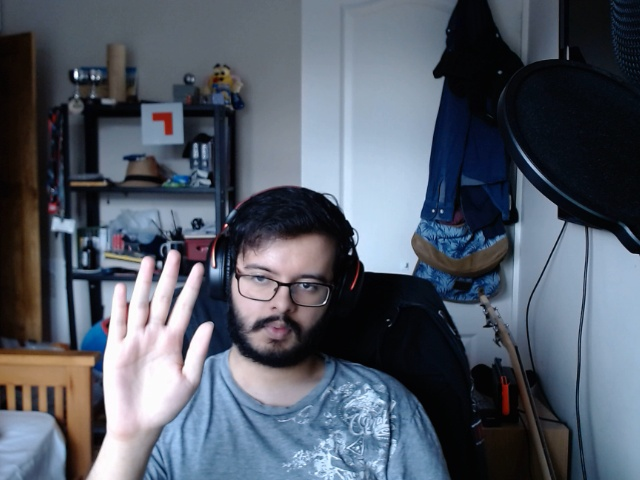Hello: (67, 249, 221, 448)
